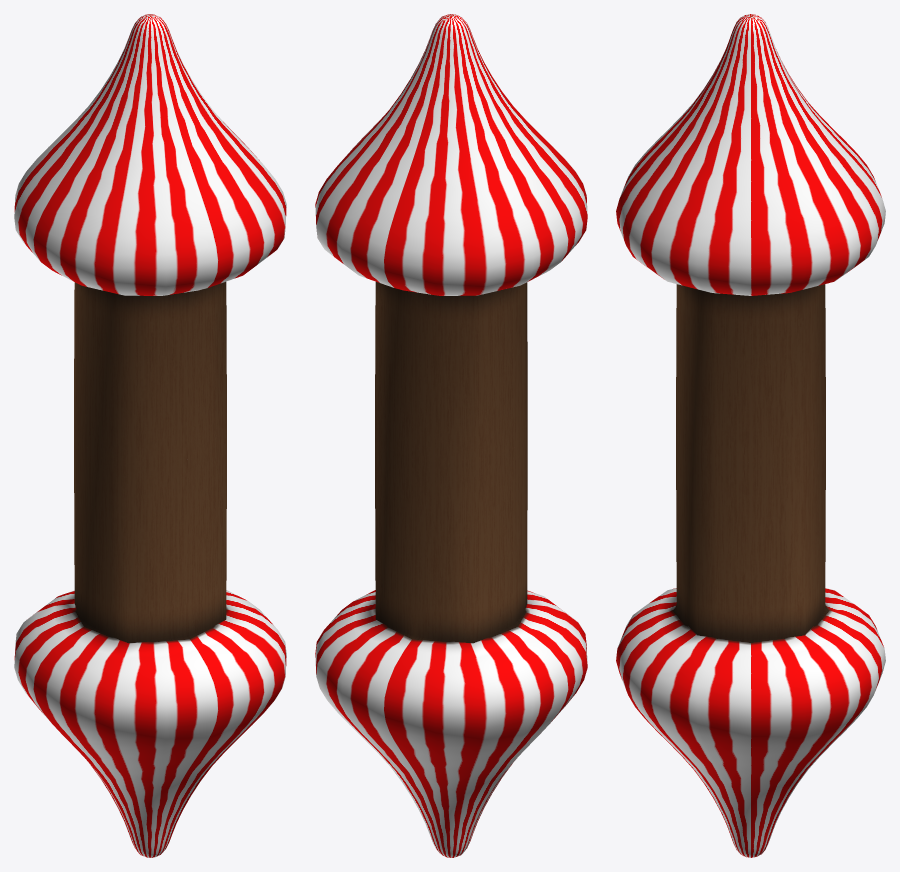
File: Zwiebel_B_02.fbx
The picture shows the model from 3 angles, left to right: view 1: azimuth 30°, elevation 25°; view 2: azimuth 150°, elevation 25°; view 3: azimuth 270°, elevation 25°; orthographic projection.
Parts seen in each view (by area): view 1: Zwiebel_B_02; view 2: Zwiebel_B_02; view 3: Zwiebel_B_02.
Part boxes in pixels (x1,y1,x2,y2): Zwiebel_B_02: (14, 14, 286, 857); Zwiebel_B_02: (315, 14, 587, 857); Zwiebel_B_02: (616, 14, 885, 857).
Bounding box in the file's own units: 46.25 × 159 × 46.25.
